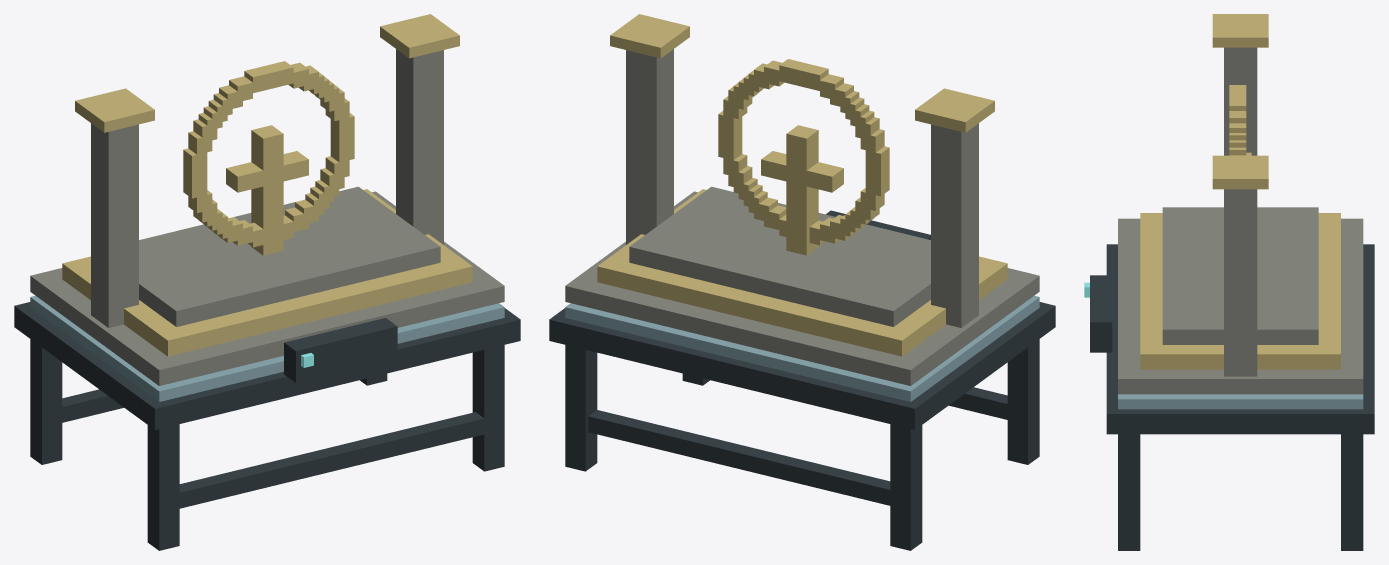
Rendered from sanctity_station_t6.glb.
3 renders of one model, left to right at view 1: azimuth 30°, elevation 25°; view 2: azimuth 150°, elevation 25°; view 3: azimuth 270°, elevation 25°, orthographic. The views are drawn at different scales.
Visible parts, largest first — view 1: sanctity_station_t6/work_surface, sanctity_station_t6/reliquary, sanctity_station_t6/frame; view 2: sanctity_station_t6/work_surface, sanctity_station_t6/reliquary, sanctity_station_t6/frame; view 3: sanctity_station_t6/work_surface, sanctity_station_t6/frame, sanctity_station_t6/reliquary.
Boxes of the visible parts, x1=… form: sanctity_station_t6/work_surface: x1=30, y1=186, x2=504, y2=401; sanctity_station_t6/reliquary: x1=75, y1=14, x2=459, y2=327; sanctity_station_t6/frame: x1=14, y1=302, x2=520, y2=550; sanctity_station_t6/work_surface: x1=565, y1=186, x2=1039, y2=401; sanctity_station_t6/reliquary: x1=610, y1=14, x2=994, y2=327; sanctity_station_t6/frame: x1=549, y1=302, x2=1055, y2=550; sanctity_station_t6/work_surface: x1=1084, y1=207, x2=1363, y2=409; sanctity_station_t6/frame: x1=1106, y1=244, x2=1374, y2=550; sanctity_station_t6/reliquary: x1=1212, y1=14, x2=1268, y2=376.
Size of the model in its own units: 2.25 by 2.31 by 1.62.
